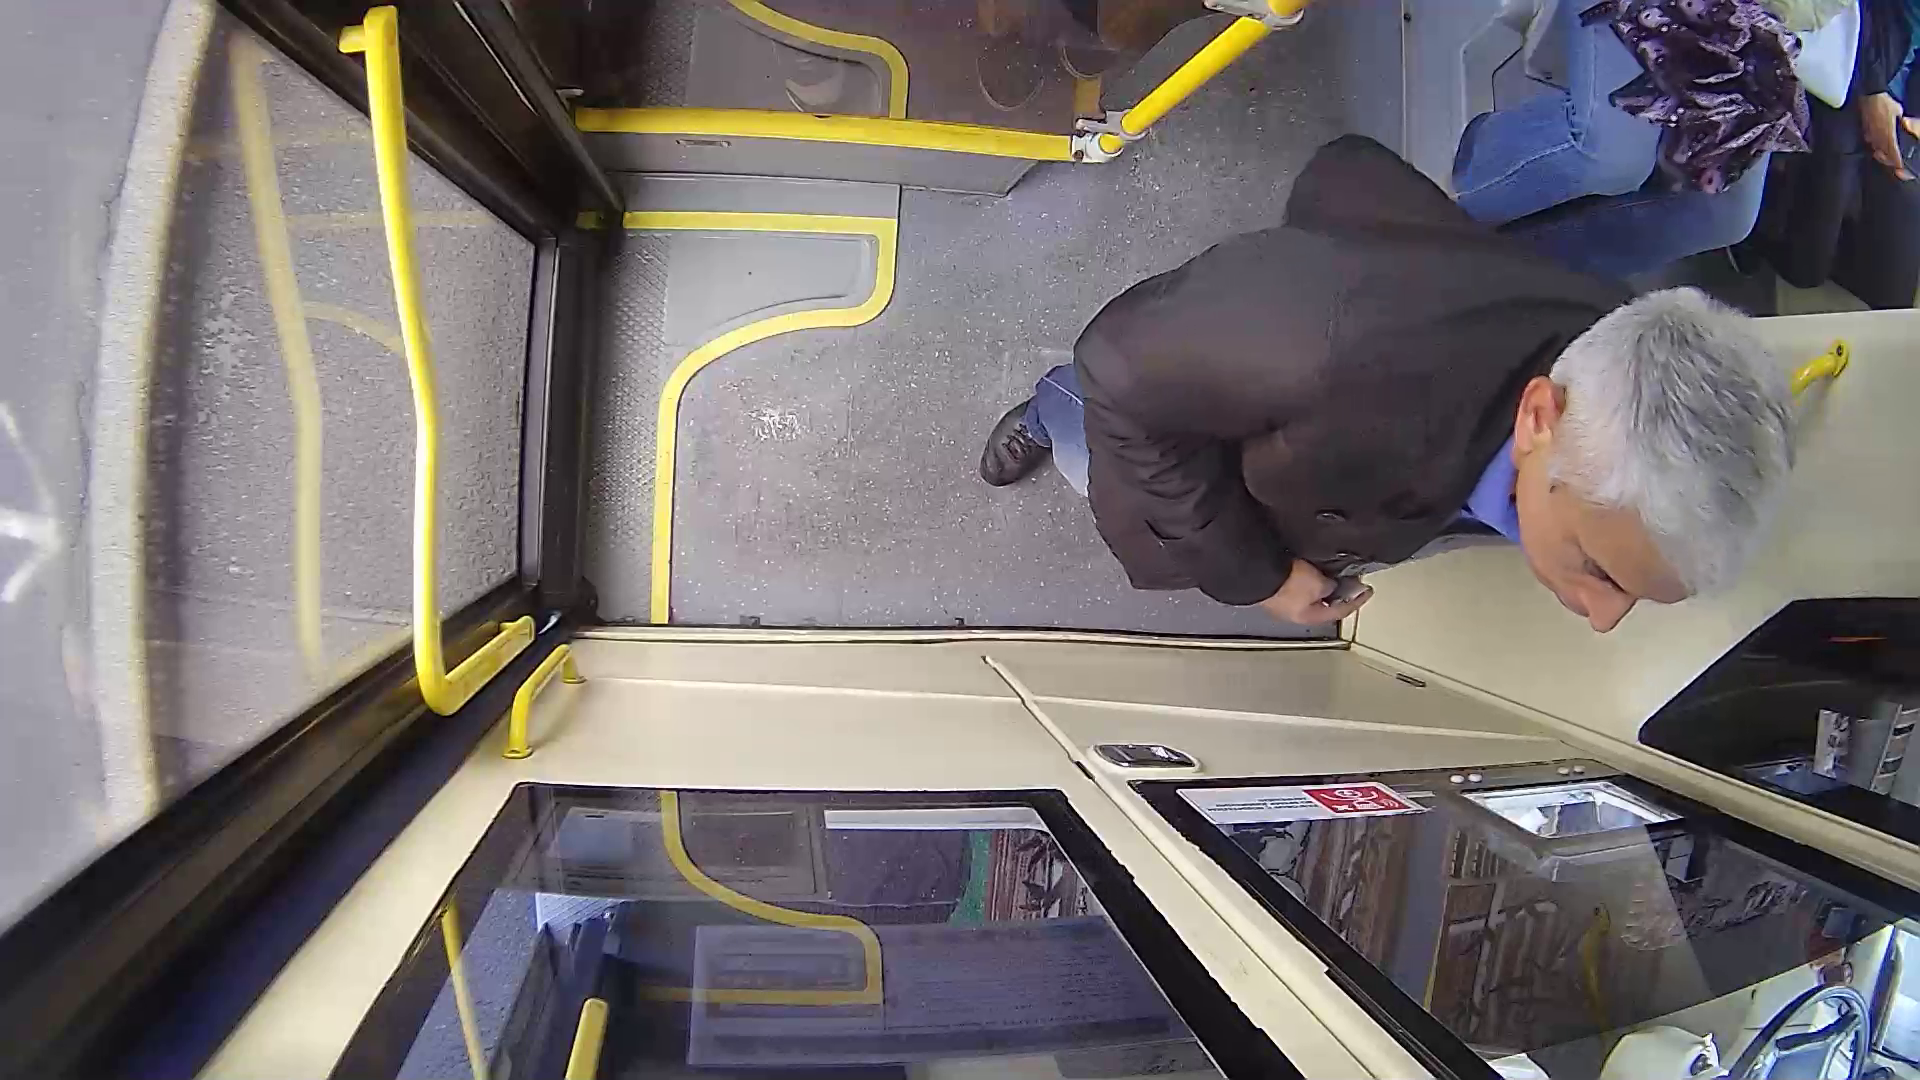person: (892, 109, 1869, 735)
